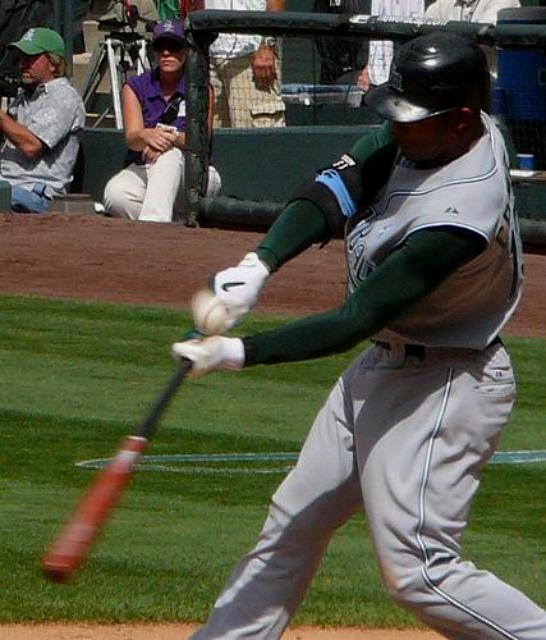ball: (195, 297, 227, 333)
bat: (40, 354, 193, 584)
